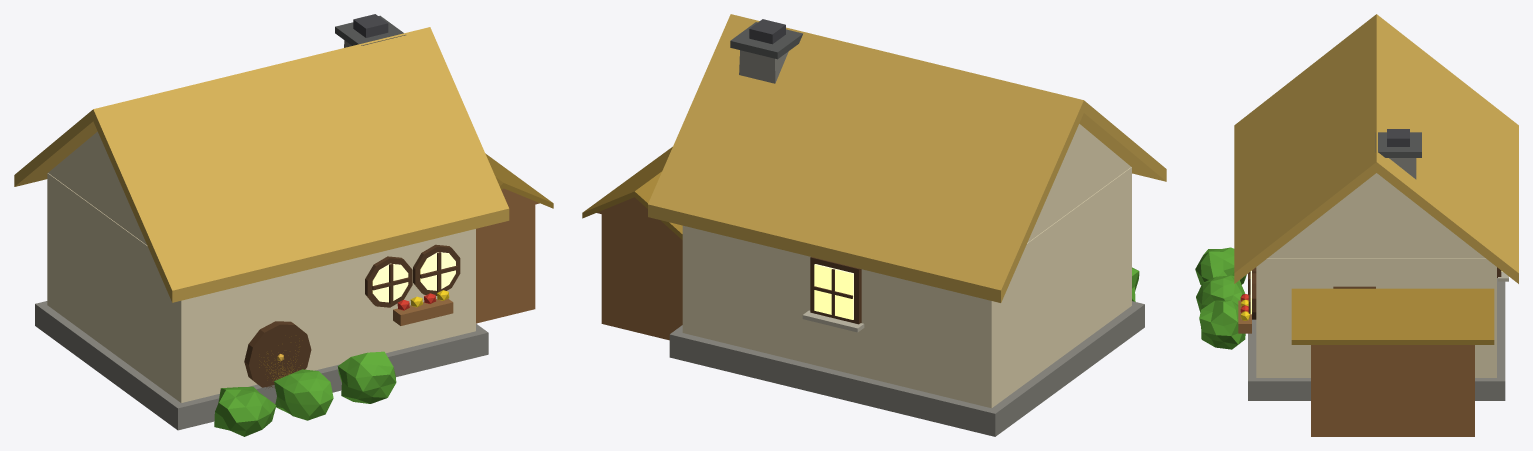
File: hobbit_cottage_3.glb
The picture shows the model from 3 angles, left to right: view 1: azimuth 30°, elevation 25°; view 2: azimuth 150°, elevation 25°; view 3: azimuth 270°, elevation 25°; orthographic projection. The views are drawn at different scales.
Visible parts, largest first — view 1: hobbit_cottage_3; view 2: hobbit_cottage_3; view 3: hobbit_cottage_3.
Boxes of the visible parts, x1=… form: hobbit_cottage_3: x1=14, y1=14, x2=553, y2=436; hobbit_cottage_3: x1=582, y1=14, x2=1166, y2=436; hobbit_cottage_3: x1=1195, y1=14, x2=1518, y2=436.
Size of what is drawn, in the model's own units: 7.85 by 5.22 by 5.92.
